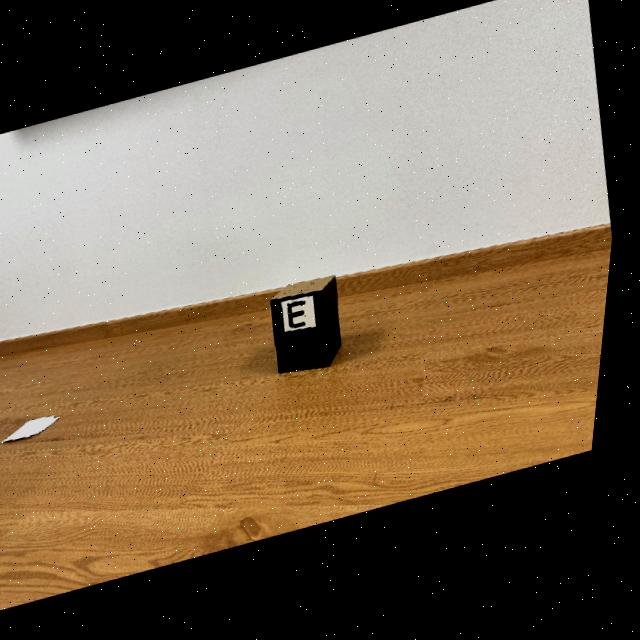E: (294, 306, 313, 334)
